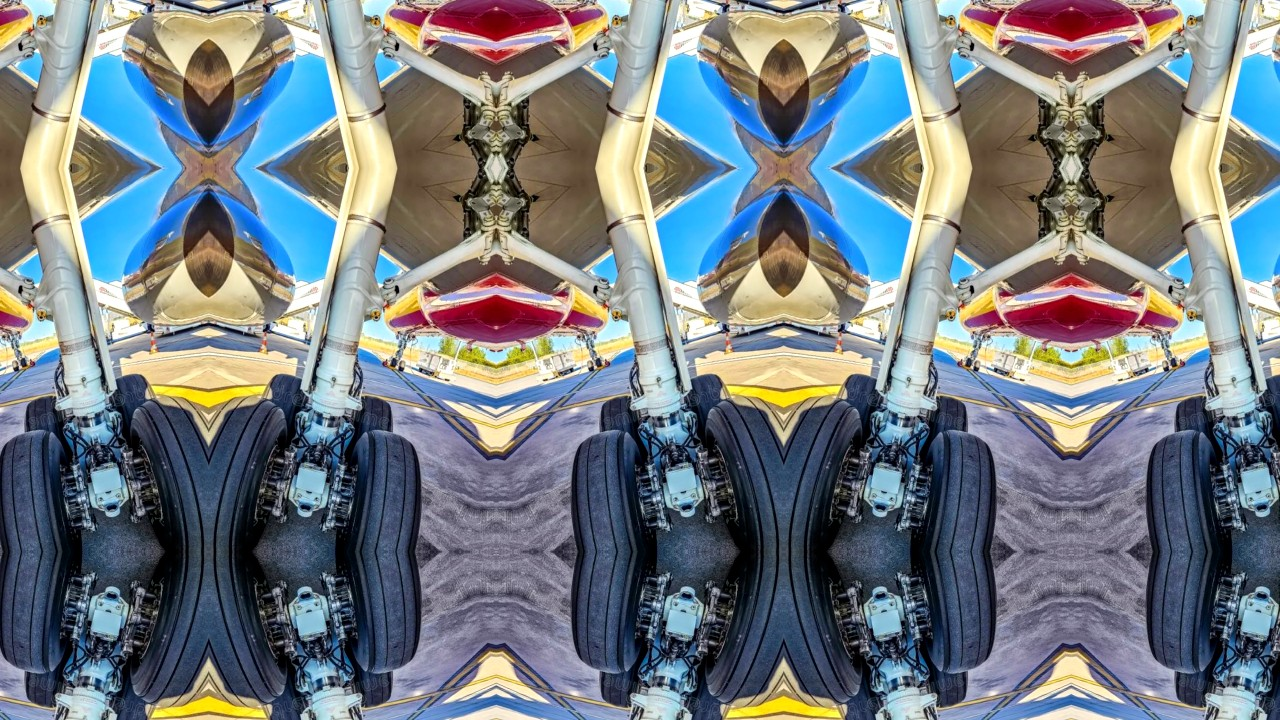chock: (21, 365, 29, 372), (387, 365, 395, 372), (597, 365, 605, 372), (963, 365, 971, 372), (1173, 365, 1181, 372)
wheel: (321, 424, 440, 552), (552, 424, 671, 552), (897, 424, 1016, 552), (1128, 424, 1247, 552), (321, 552, 440, 680), (552, 552, 671, 680), (897, 552, 1016, 680), (1128, 552, 1247, 680), (119, 383, 208, 552), (208, 383, 297, 552), (695, 383, 784, 552), (784, 383, 873, 552), (119, 552, 208, 720), (208, 552, 297, 720), (695, 552, 784, 720), (784, 552, 873, 720), (0, 424, 95, 552), (0, 552, 95, 680), (16, 391, 73, 470), (343, 391, 400, 470), (592, 391, 649, 470), (919, 391, 976, 470), (1168, 391, 1225, 470), (16, 634, 73, 713), (343, 634, 400, 713), (592, 634, 649, 713), (919, 634, 976, 713), (1168, 634, 1225, 713), (107, 369, 162, 441), (254, 369, 309, 441), (683, 369, 738, 441), (830, 369, 885, 441), (107, 663, 162, 720), (254, 663, 309, 720), (683, 663, 738, 720), (830, 663, 885, 720), (1259, 369, 1280, 441), (1259, 663, 1280, 720), (11, 359, 19, 372), (397, 359, 405, 372), (587, 359, 595, 372), (973, 359, 981, 372), (1163, 359, 1171, 372), (19, 357, 27, 368), (389, 357, 397, 368), (595, 357, 603, 368), (965, 357, 973, 368), (1171, 357, 1179, 368)
